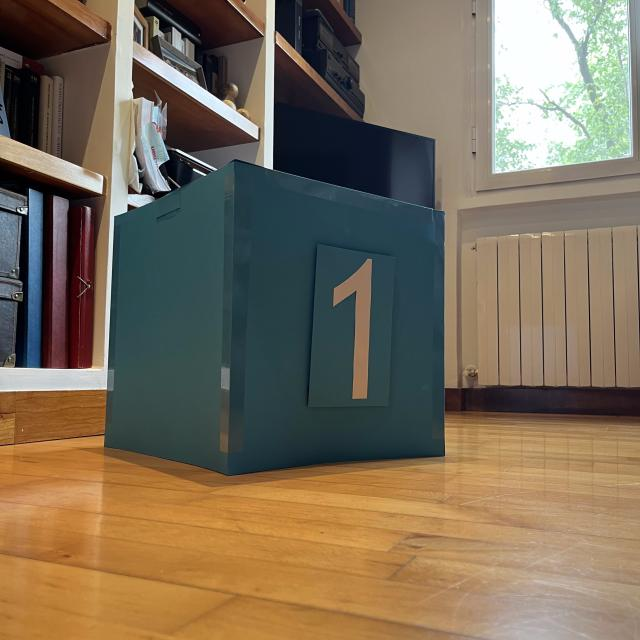box: (102, 156, 449, 478)
